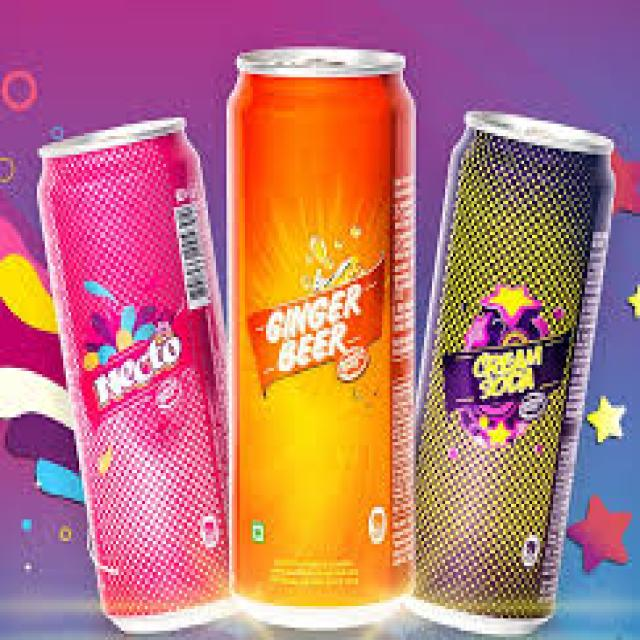Cans: (218, 37, 426, 628), (32, 108, 240, 631), (411, 90, 608, 637)
